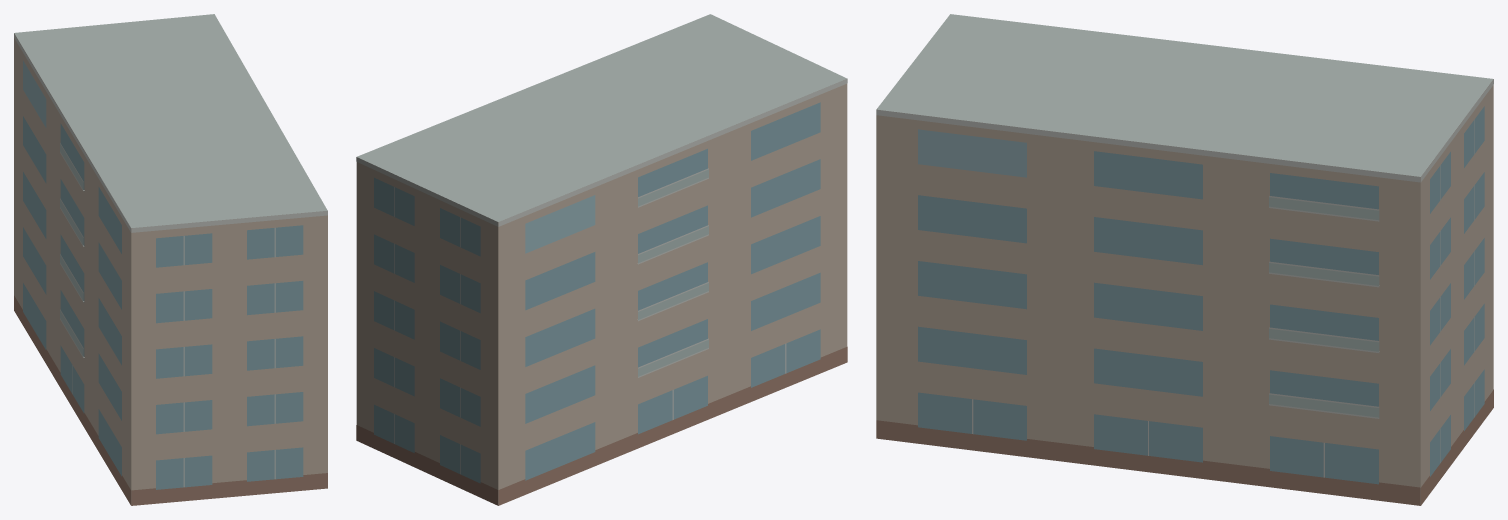
The model's file is survey-upis-32963632.glb.
The picture shows the model from 3 angles, left to right: view 1: azimuth 30°, elevation 25°; view 2: azimuth 150°, elevation 25°; view 3: azimuth 270°, elevation 25°; orthographic projection. The views are drawn at different scales.
Visible parts, largest first — view 1: survey-upis-32963632.tmp; view 2: survey-upis-32963632.tmp; view 3: survey-upis-32963632.tmp.
Boxes of the visible parts, x1,y1,x2,y2 form: survey-upis-32963632.tmp: (14,14,327,505); survey-upis-32963632.tmp: (356,14,847,505); survey-upis-32963632.tmp: (876,14,1493,505).
Size of the model in its own units: 15.31 by 14.4 by 24.51.
